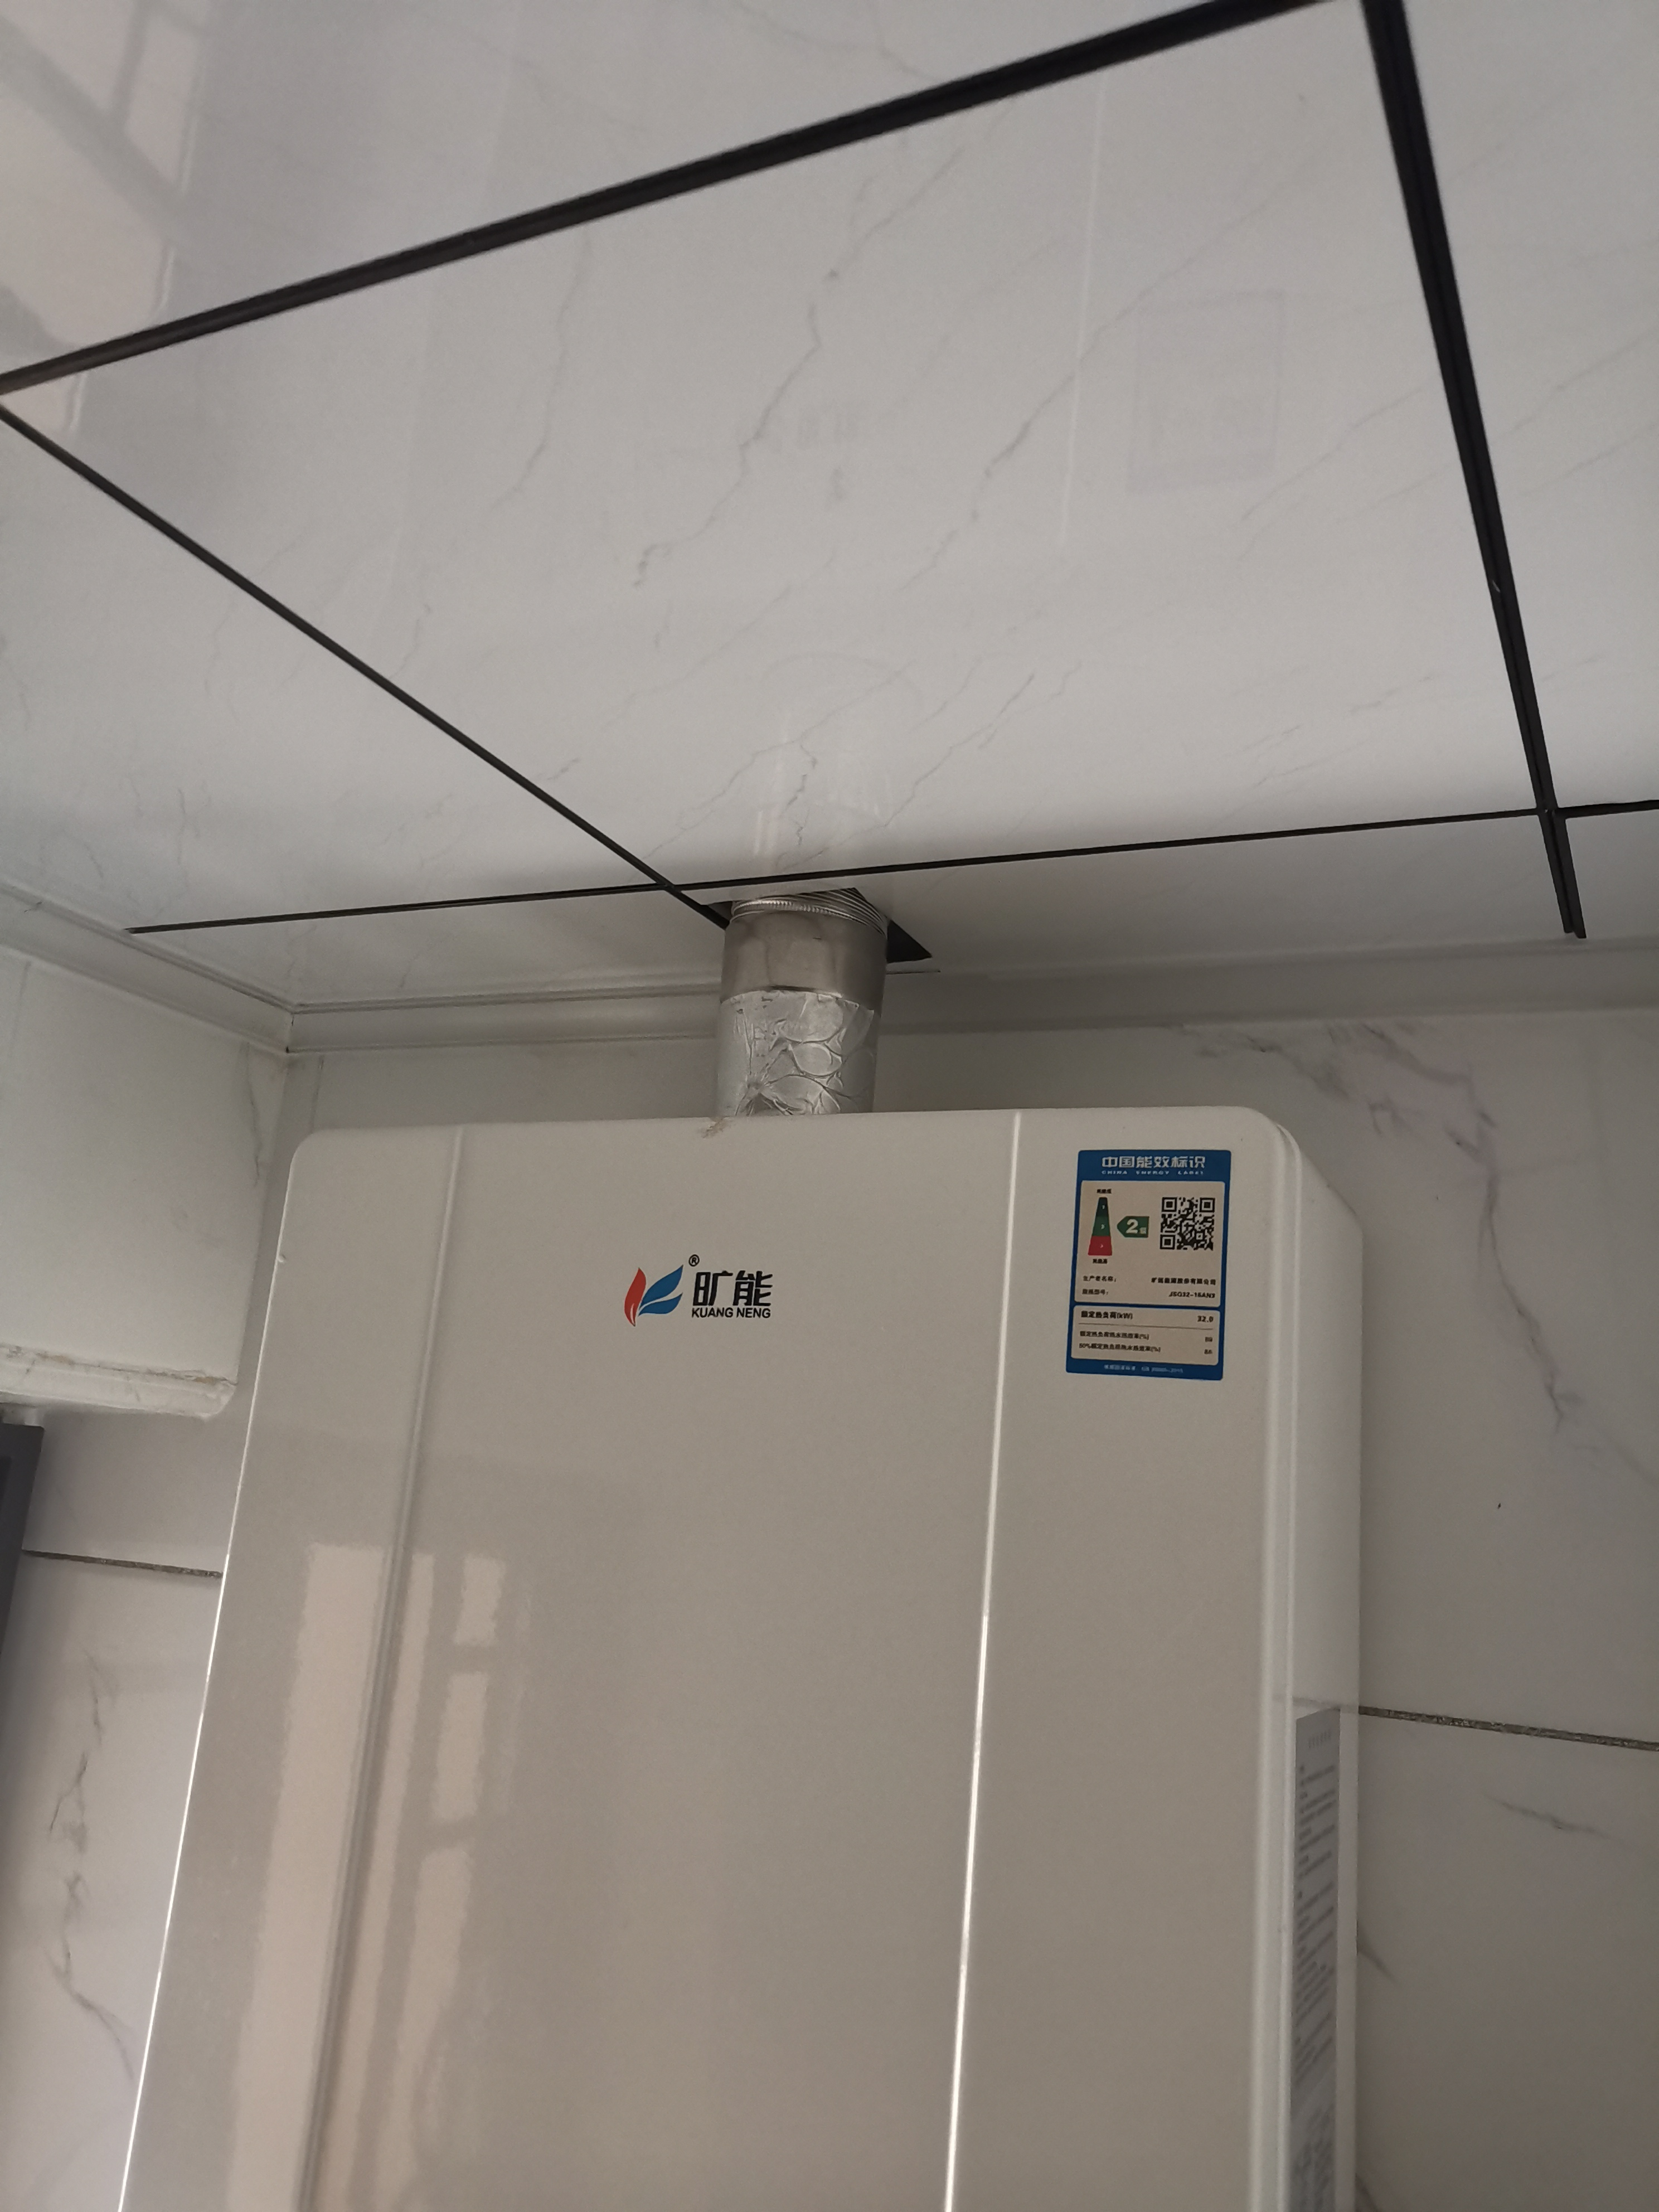loudou: (615, 1245, 781, 1339)
